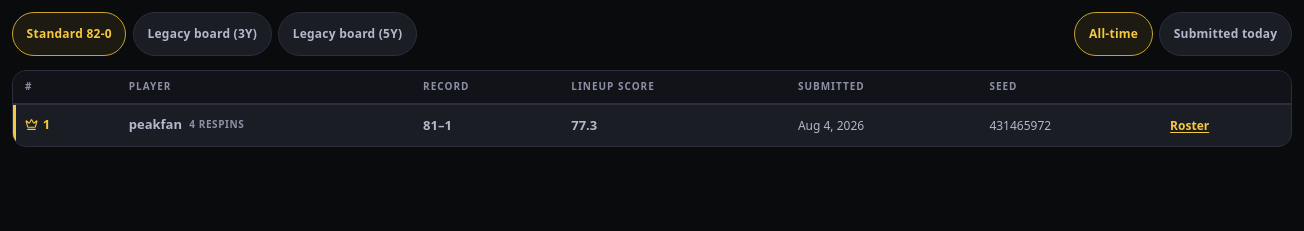
Test: the mode and window controls › says nothing was submitted today rather than showing the all-time board
Expected: the table with test id "leaderboard-table" is shown, x1=13 y1=71 x2=1291 y2=146
Click the tab with test id "ps-board-window-today": (1226, 34) x1=1159 y1=12 x2=1292 y2=56
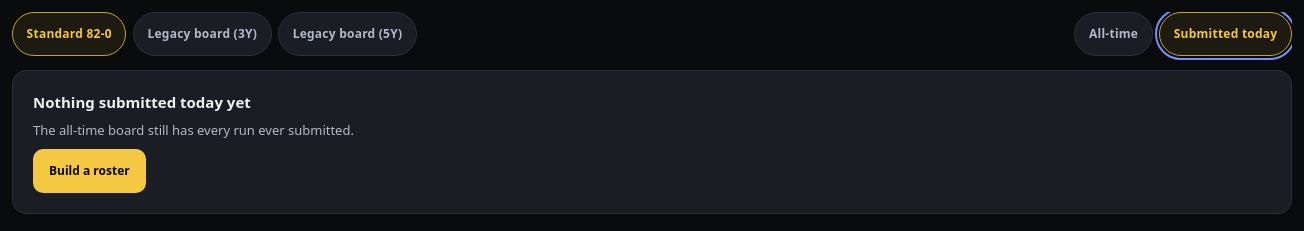
Expected: the element with test id "ps-board-empty" shows "Nothing submitted today", x1=33 y1=92 x2=251 y2=112
